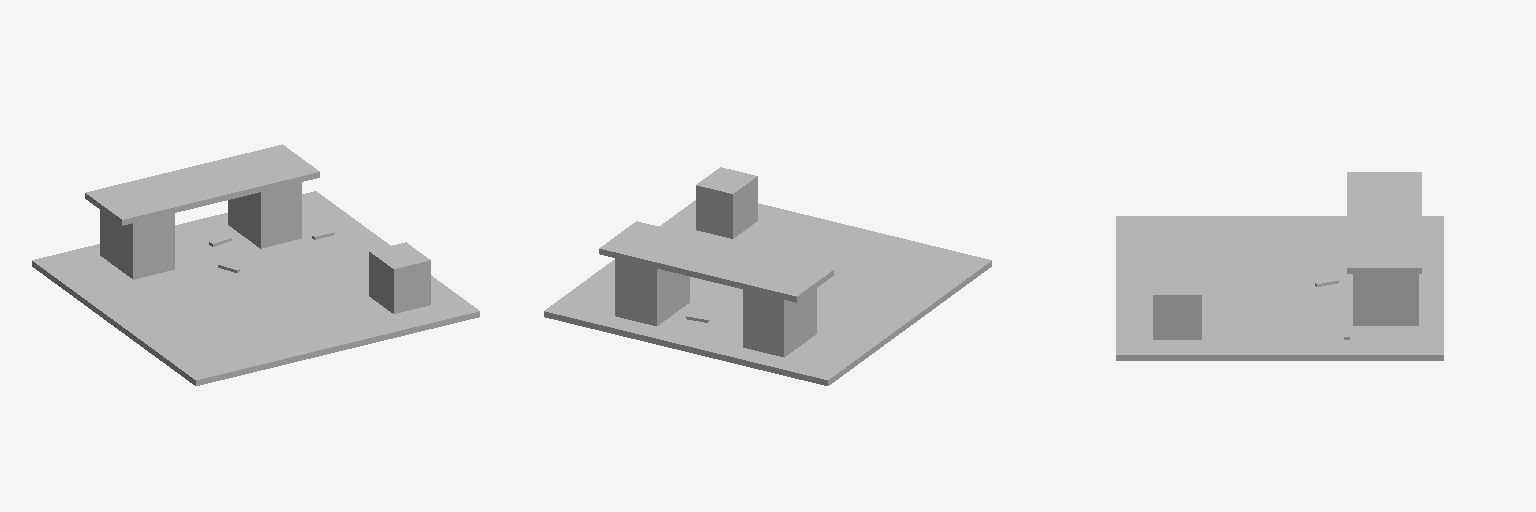
Rendered from objets_blender.obj.
3 views of the same model, side by side, from view 1: azimuth 30°, elevation 25°; view 2: azimuth 150°, elevation 25°; view 3: azimuth 270°, elevation 25° (orthographic).
Visible parts, largest first — view 1: Sol, Bureau, Pot_de_plante; view 2: Sol, Bureau, Pot_de_plante; view 3: Sol, Bureau, Pot_de_plante.
Part boxes in pixels (left/top/right/bottom): Sol: left=32, top=191, right=479, bottom=385; Bureau: left=85, top=144, right=319, bottom=279; Pot_de_plante: left=369, top=242, right=430, bottom=313; Sol: left=544, top=200, right=991, bottom=385; Bureau: left=599, top=221, right=833, bottom=357; Pot_de_plante: left=696, top=167, right=757, bottom=238; Sol: left=1116, top=216, right=1443, bottom=360; Bureau: left=1347, top=172, right=1421, bottom=325; Pot_de_plante: left=1153, top=277, right=1201, bottom=339.
Bounding box in the file's own units: 10 × 2.4 × 10.